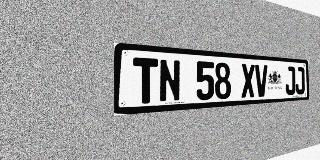5: (196, 61, 214, 101)
8: (215, 62, 231, 99)
J: (285, 66, 295, 95), (295, 67, 305, 95)
N: (159, 59, 181, 103)
T: (133, 57, 158, 104)
V: (255, 64, 268, 97)
X: (241, 64, 255, 98)
